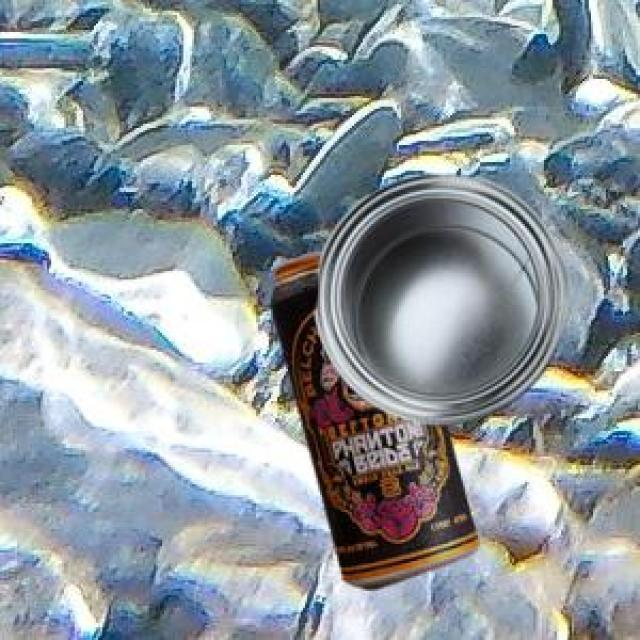Can: (268, 249, 475, 586), (313, 172, 564, 421)
